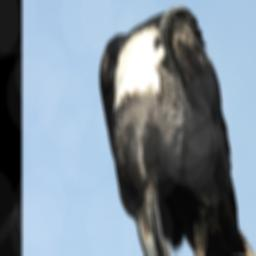Crow: (96, 0, 254, 256)
